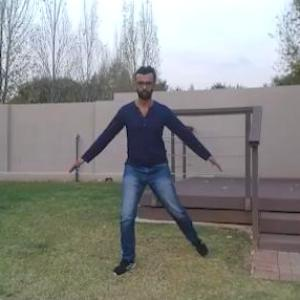land: (82, 67, 203, 277)
